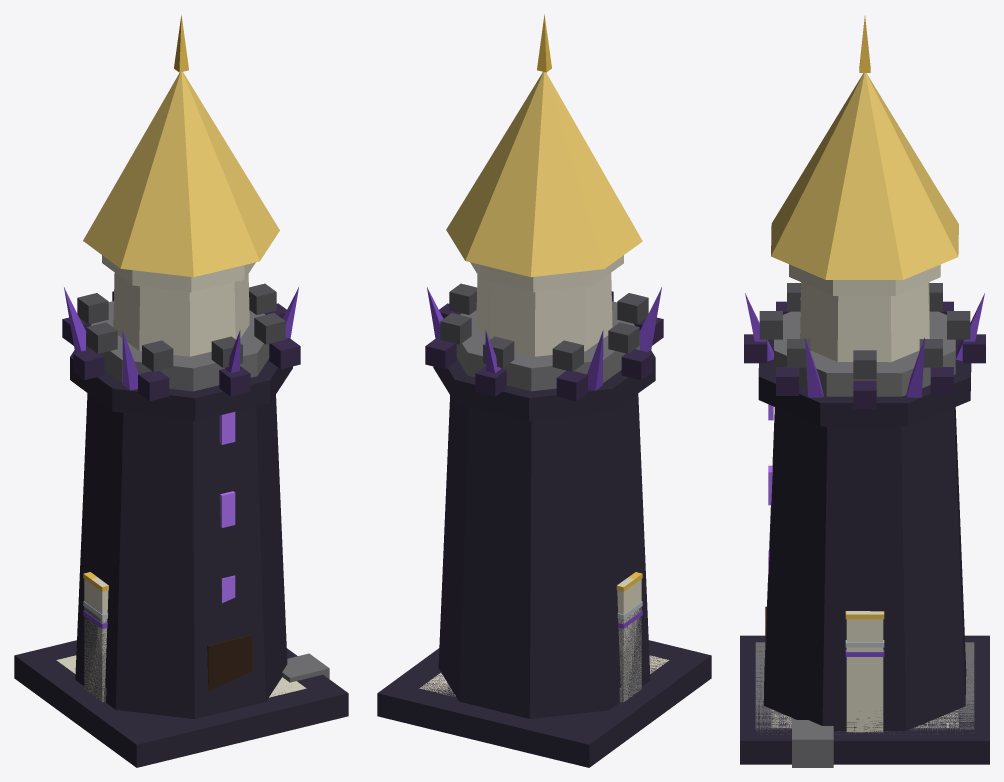
The model's file is Env_Ruins.obj.
3 views of the same model, side by side, from view 1: azimuth 30°, elevation 25°; view 2: azimuth 150°, elevation 25°; view 3: azimuth 270°, elevation 25° (orthographic). The views are drawn at different scales.
Parts seen in each view (by area): view 1: Env_Tower_Dark, Env_Tower_Light, Env_Tower_Ashen, Env_Wall_Segment_Ashen, Env_Wall_Segment_Light, Env_Tower_Ashen_Ruined; view 2: Env_Tower_Dark, Env_Tower_Light, Env_Tower_Ashen, Env_Wall_Segment_Ashen, Env_Wall_Segment_Light; view 3: Env_Tower_Dark, Env_Tower_Light, Env_Tower_Ashen, Env_Wall_Segment_Light, Env_Tower_Ashen_Ruined.
Part boxes in pixels (x1,y1,x2,y2): Env_Tower_Dark: (14, 287, 348, 767); Env_Tower_Light: (56, 14, 306, 697); Env_Tower_Ashen: (77, 283, 285, 391); Env_Wall_Segment_Ashen: (83, 601, 108, 702); Env_Wall_Segment_Light: (83, 572, 108, 701); Env_Tower_Ashen_Ruined: (282, 653, 329, 682); Env_Tower_Dark: (377, 287, 711, 767); Env_Tower_Light: (419, 14, 669, 696); Env_Tower_Ashen: (440, 283, 648, 391); Env_Wall_Segment_Ashen: (617, 601, 642, 702); Env_Wall_Segment_Light: (616, 572, 642, 701); Env_Tower_Dark: (740, 293, 989, 764); Env_Tower_Light: (771, 16, 958, 727); Env_Tower_Ashen: (755, 283, 974, 734); Env_Wall_Segment_Light: (845, 611, 884, 732); Env_Tower_Ashen_Ruined: (792, 720, 833, 767).
Bounding box in the file's own units: 4.95 × 14.92 × 4.8.
